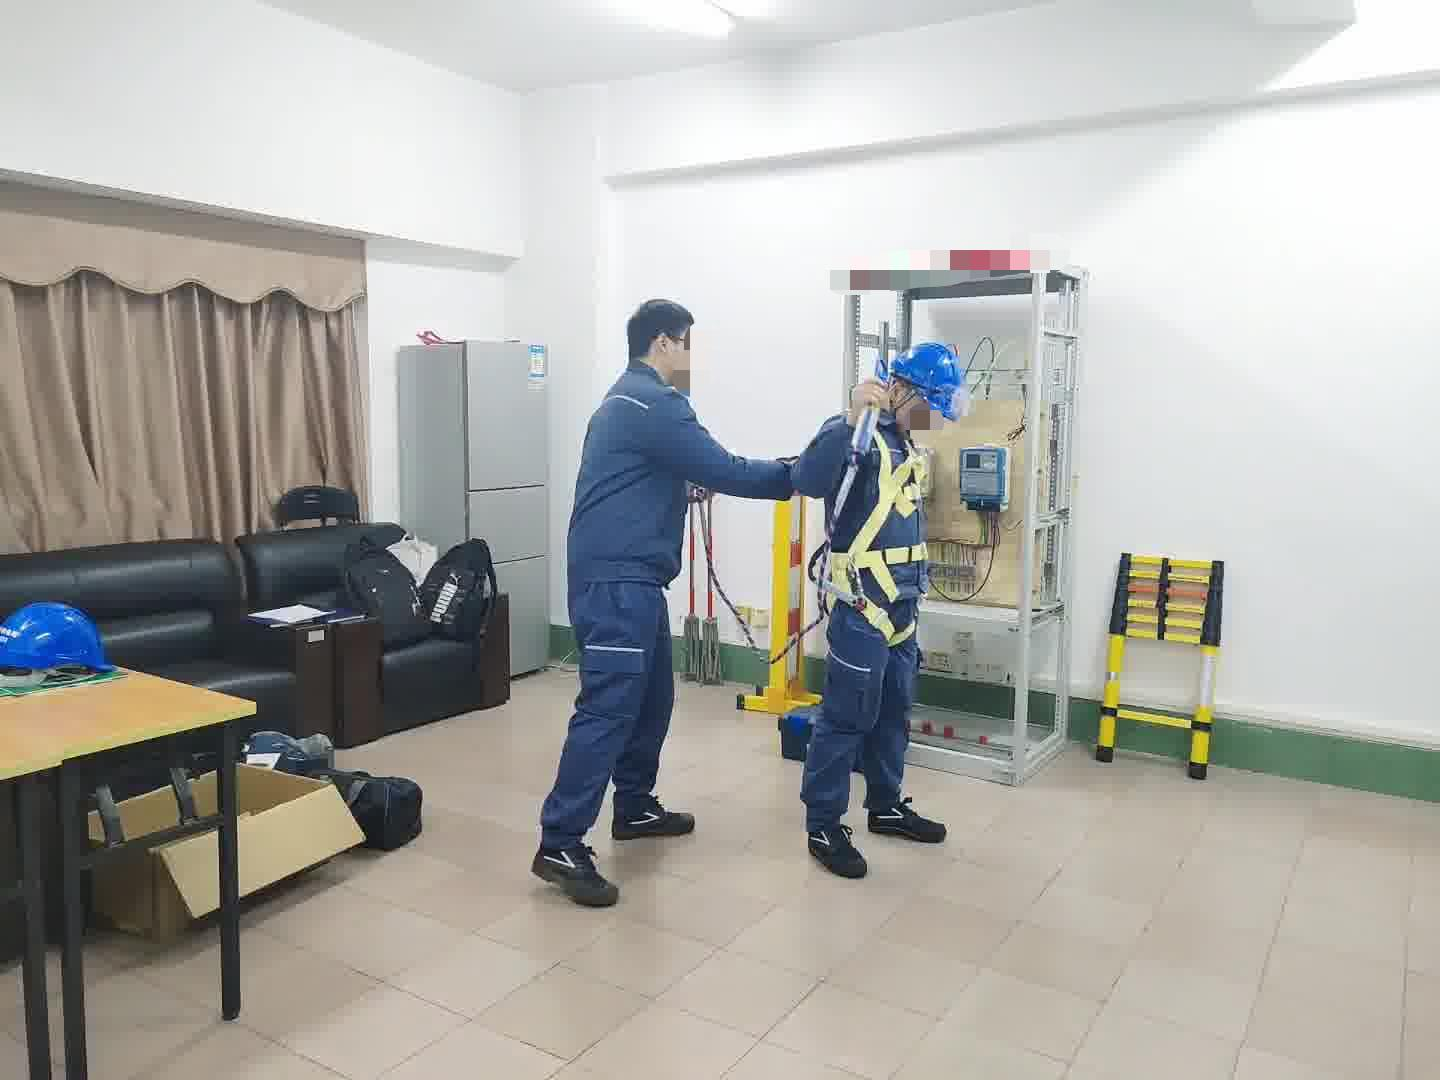halt: (889, 343, 967, 430)
inear: (888, 377, 921, 424)
unhalt: (626, 299, 704, 387)
